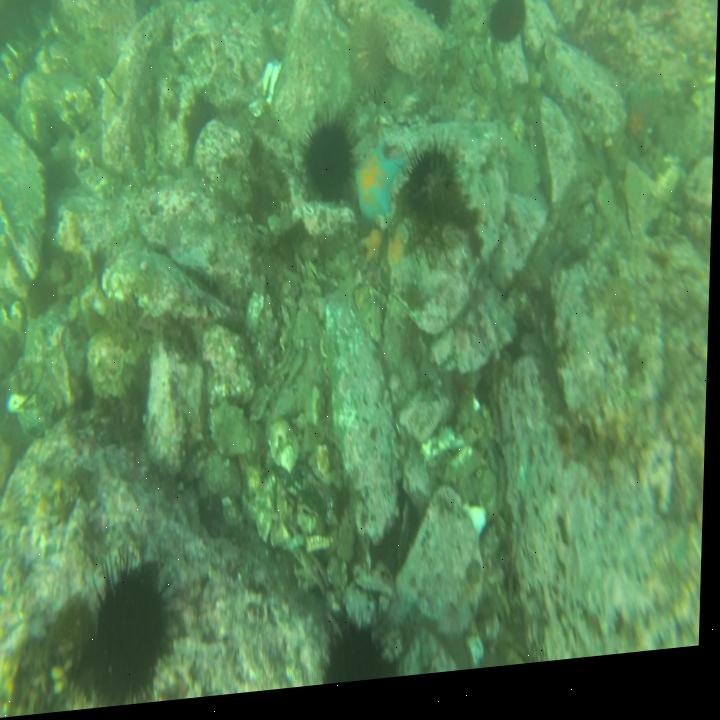echinus: (79, 552, 177, 712), (397, 137, 462, 253), (298, 114, 358, 216), (322, 615, 398, 692), (342, 20, 394, 118), (489, 0, 528, 55), (414, 0, 454, 49)
starfish: (352, 145, 408, 232), (621, 93, 662, 165), (387, 234, 408, 278), (364, 234, 387, 274)
